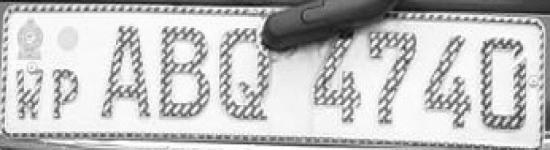0: (479, 30, 533, 143)
4: (300, 25, 366, 129), (425, 30, 478, 138)
7: (367, 25, 422, 134)
A: (99, 15, 157, 126)
B: (158, 21, 214, 126)
P: (51, 66, 84, 126)
Q: (218, 25, 273, 127)
W: (12, 58, 46, 123)
